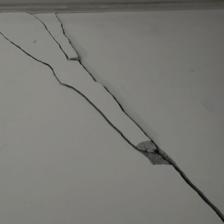Medium: (7, 16, 217, 210)
